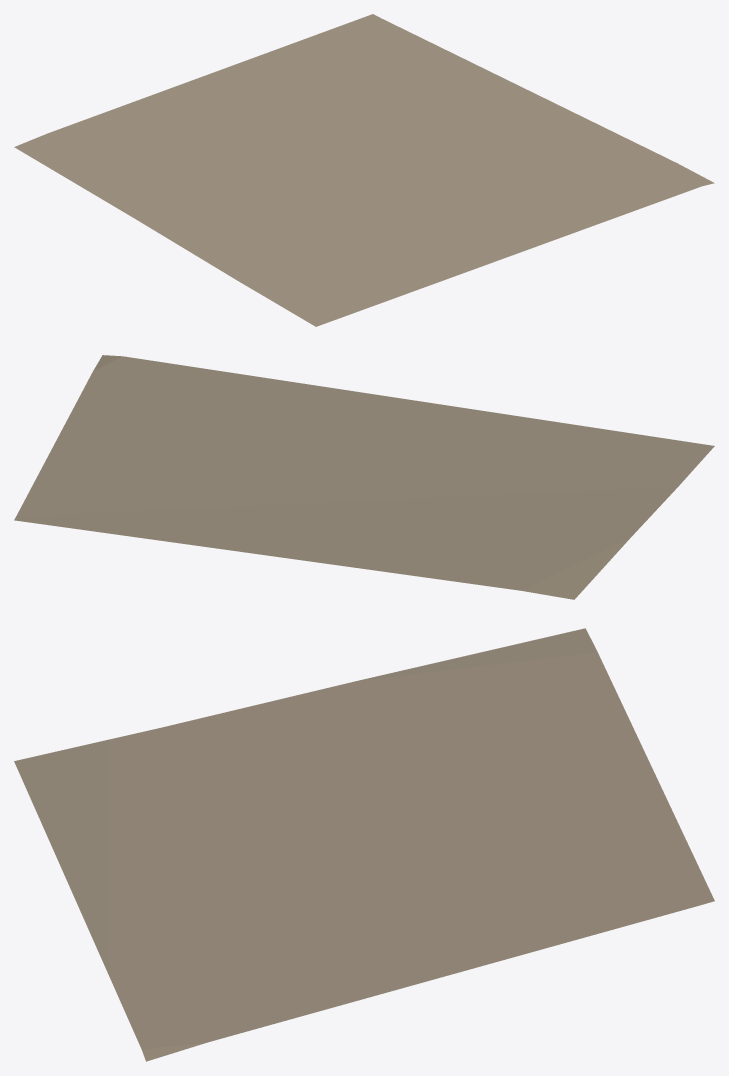
The model's file is farm_-23_-20_soil.glb.
3 views of the same model, one above another, from view 1: azimuth 30°, elevation 25°; view 2: azimuth 150°, elevation 25°; view 3: azimuth 270°, elevation 25° (orthographic). The views are drawn at different scales.
Visible parts, largest first — view 1: geometry_0; view 2: geometry_0; view 3: geometry_0.
Part boxes in pixels (x1=…): geometry_0: x1=14, y1=14, x2=714, y2=326; geometry_0: x1=14, y1=355, x2=714, y2=599; geometry_0: x1=14, y1=628, x2=714, y2=1061.
Size of the model in its own units: 88.62 by 8.19 by 72.29.
